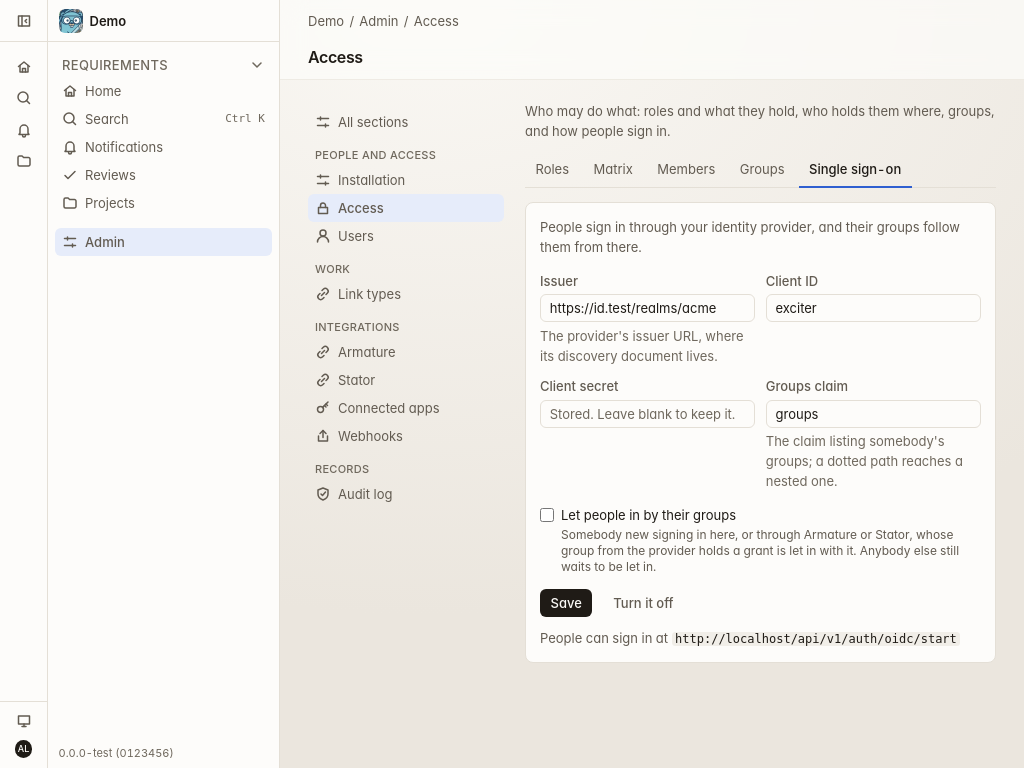
Test case: the single sign-on settings › turns it off, keeping what is stored, and then says where people would sign in
Click the button "Turn it off" at (643, 603), box [603,589,684,617]
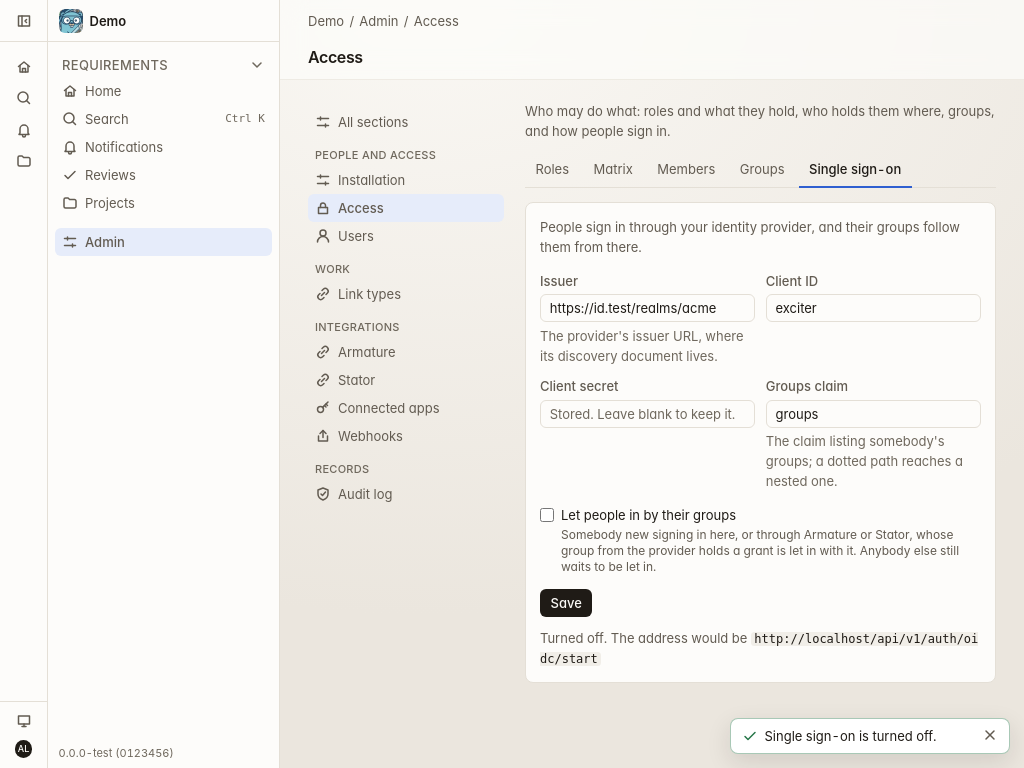
Result: the text "Single sign-on is turned off." is shown at [764,728,937,744]
Result: the element that starts with "Turned off. The address would be" is shown at [540,630,747,646]
Result: the button "Turn it off" is gone
